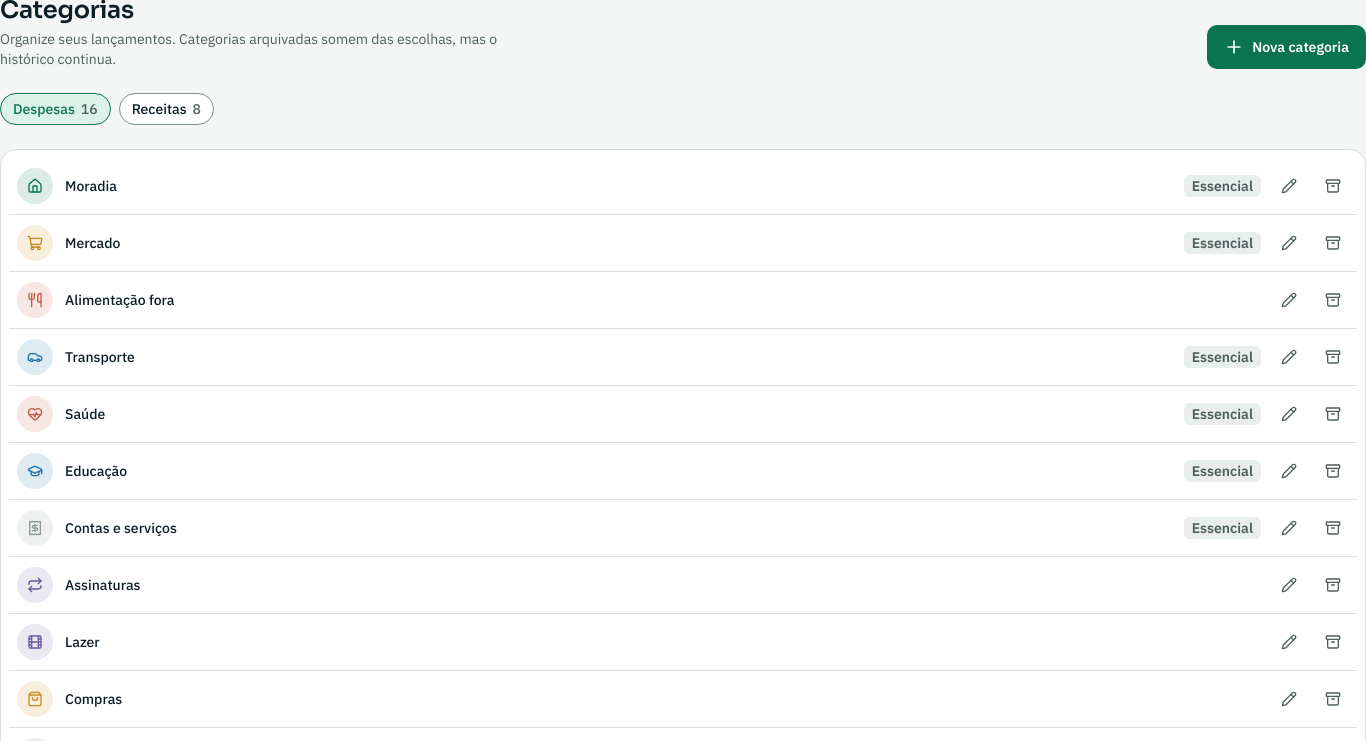
Test: Categorias › cria uma categoria e impede nome repetido
Expected: the text "Moradia" is shown, 65,177 -> 117,195
Click the button "Nova categoria". click: [1287, 47]
box: 1207,25 -> 1365,69
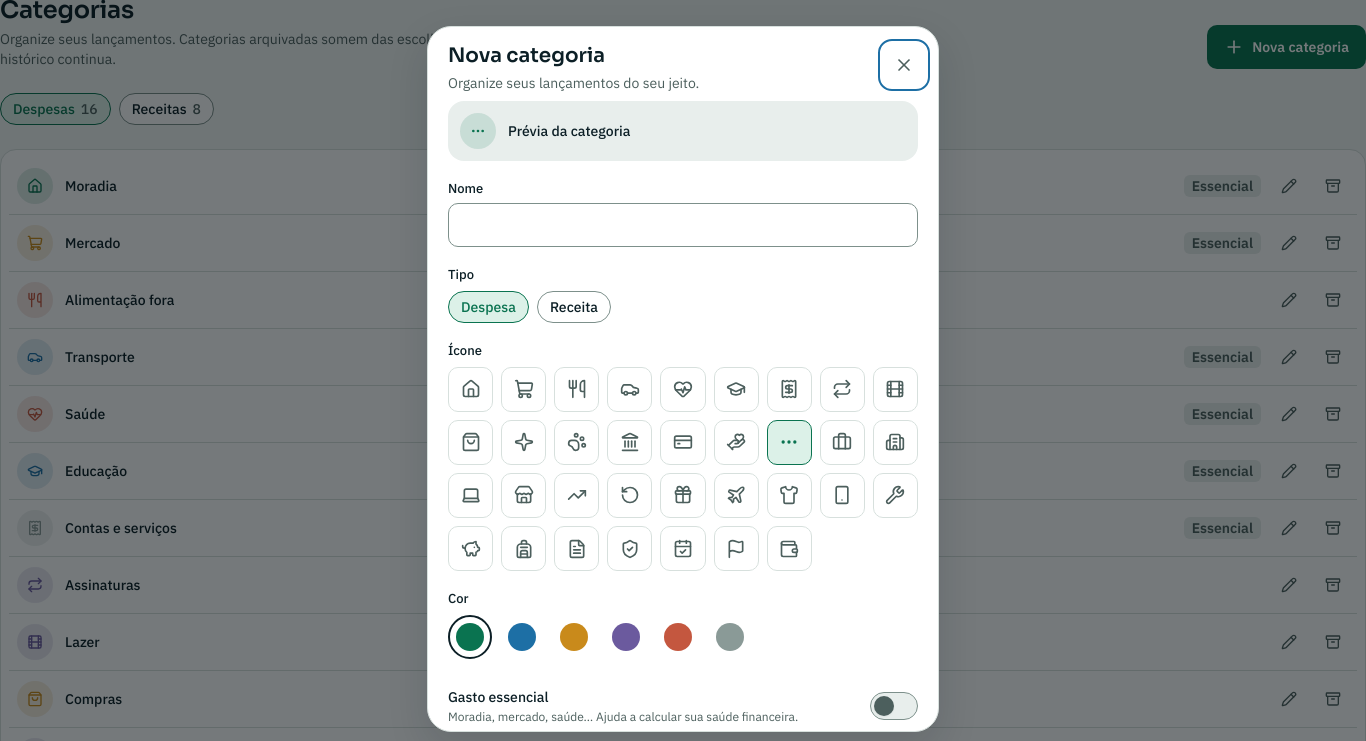
Type "moradia" into the field labelled "Nome". click: [683, 225]
box: 461,204 -> 905,246
(page scrolled)
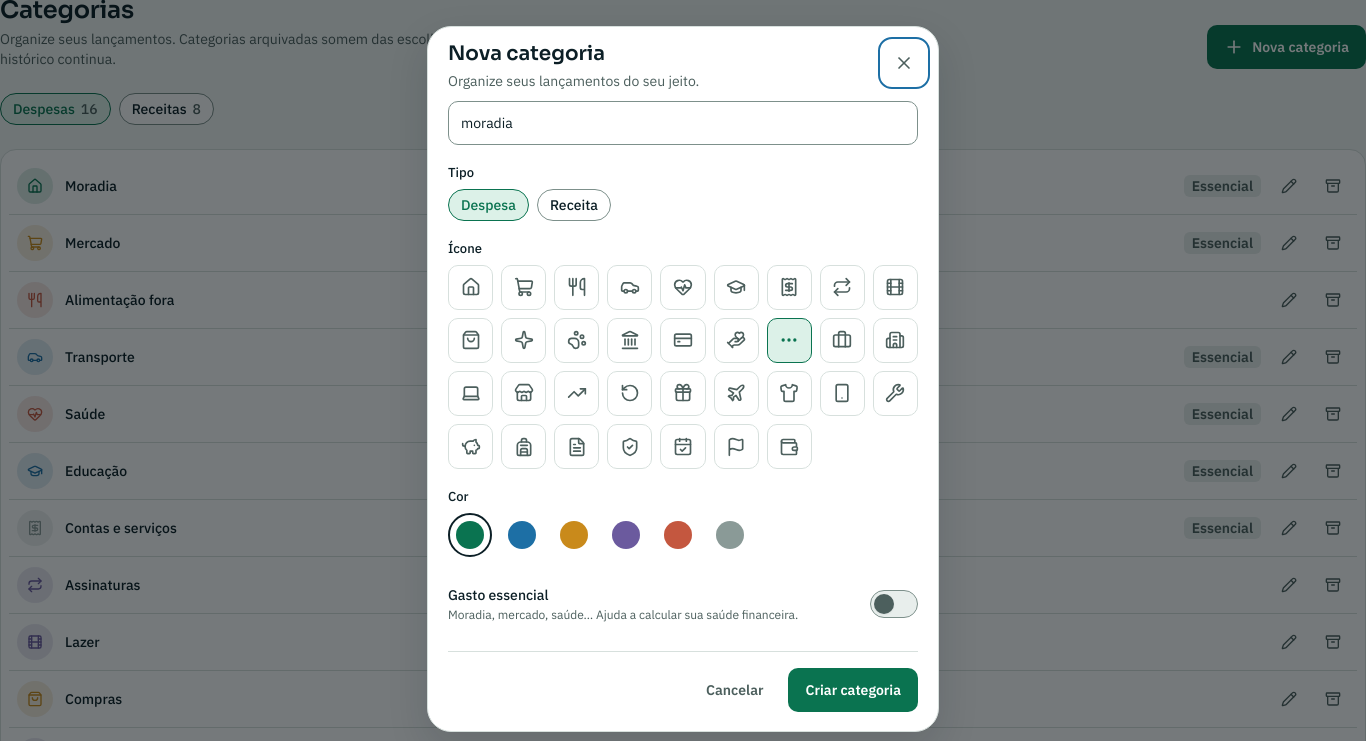
Click the button "Criar categoria". click: [853, 690]
box: 788,668 -> 918,712
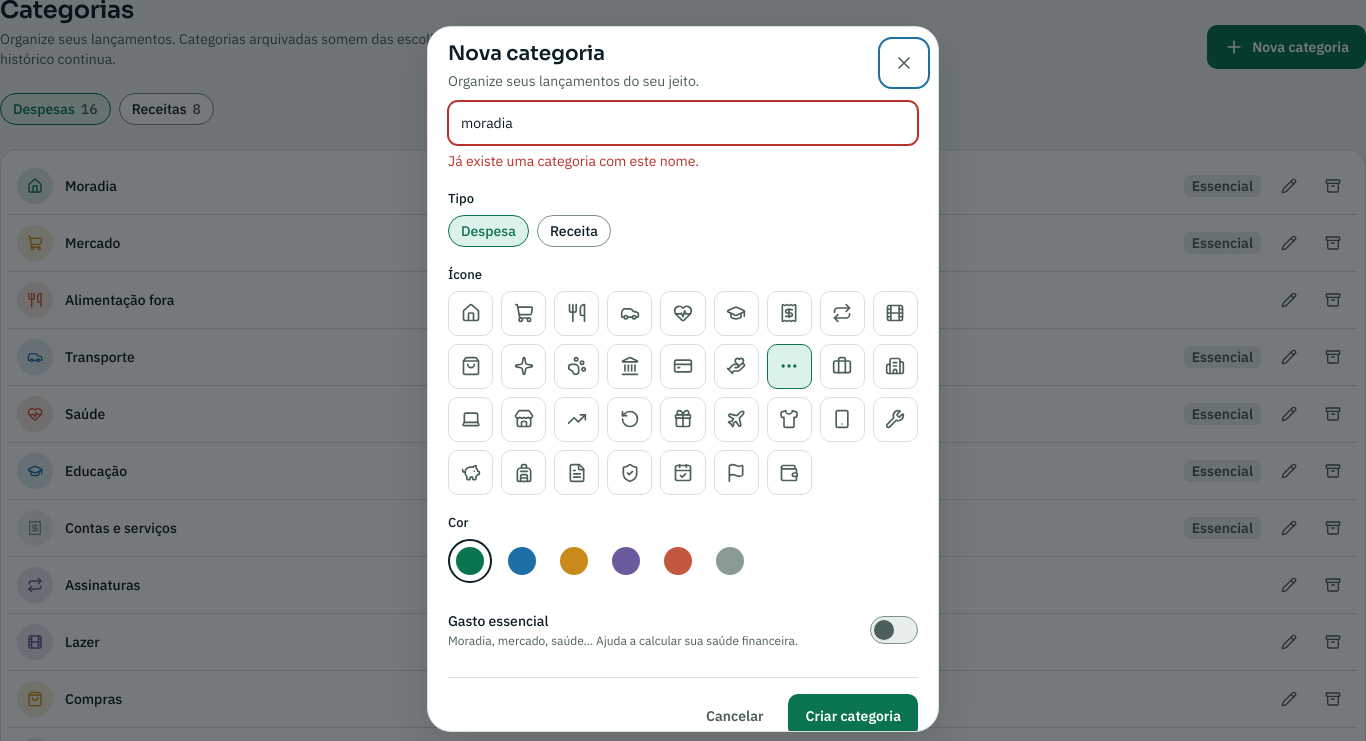
Expected: the text "Já existe uma categoria com este nome." is shown, 448,152 -> 699,170
Replace the text in the field labelled "Nome" with "Academia". click: [683, 123]
box: 461,102 -> 905,144
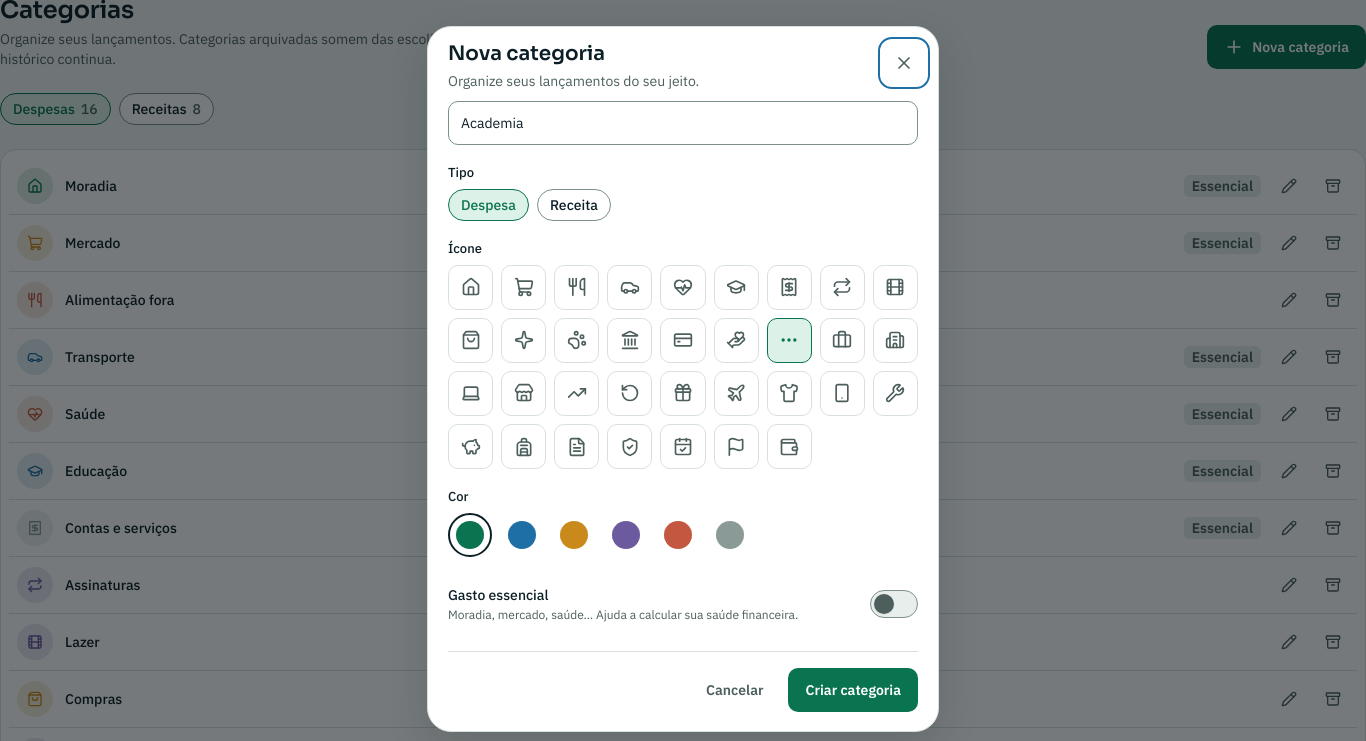
Click the radio button named "Coral". click: [678, 535]
box: 656,513 -> 700,557
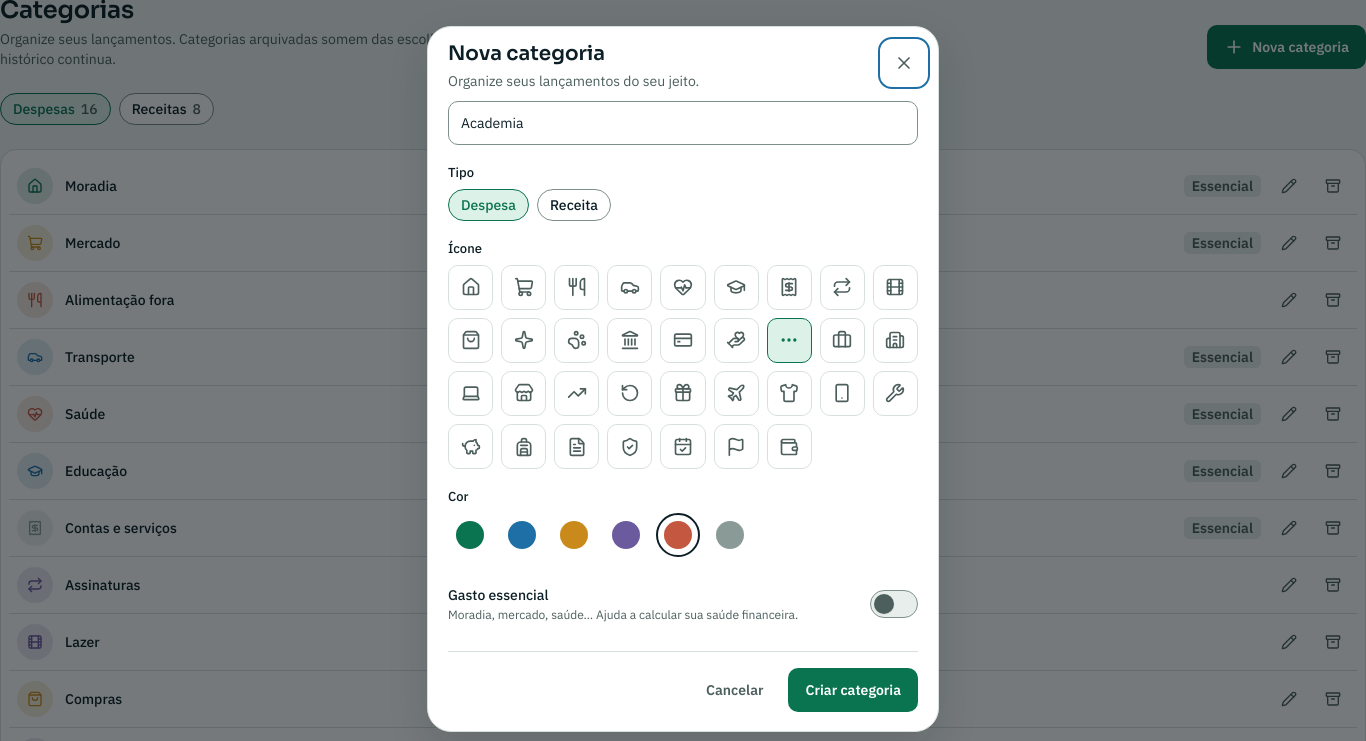
Click the button "Criar categoria". click: [853, 690]
box: 788,668 -> 918,712
(page scrolled)
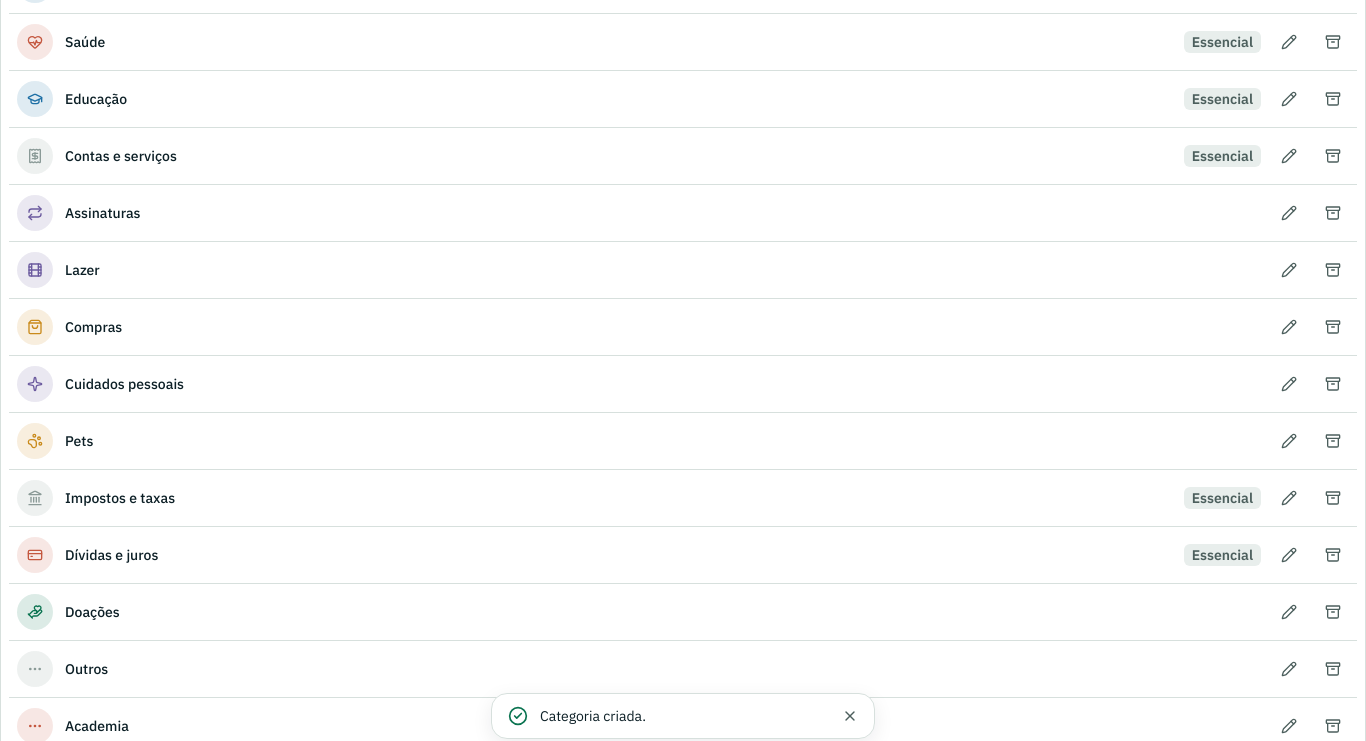
Expected: the text "Categoria criada." is shown, 540,707 -> 646,725
Expected: the text "Academia" is shown, 65,717 -> 129,735
